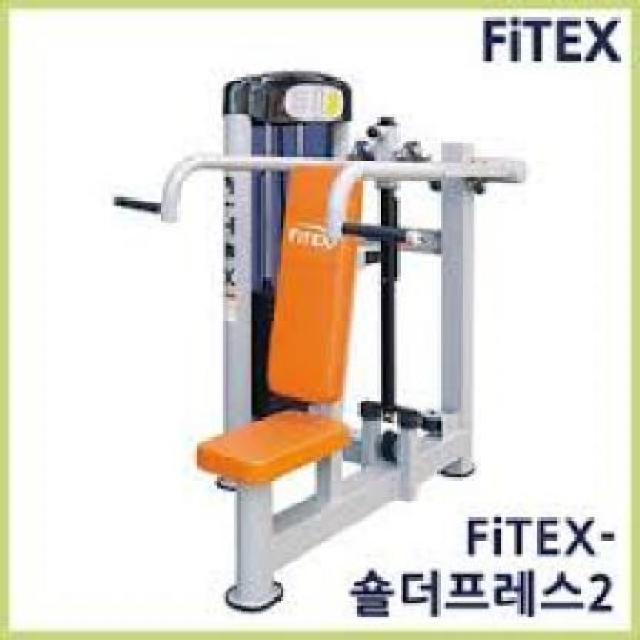shoulder press machine: (95, 60, 548, 622)
